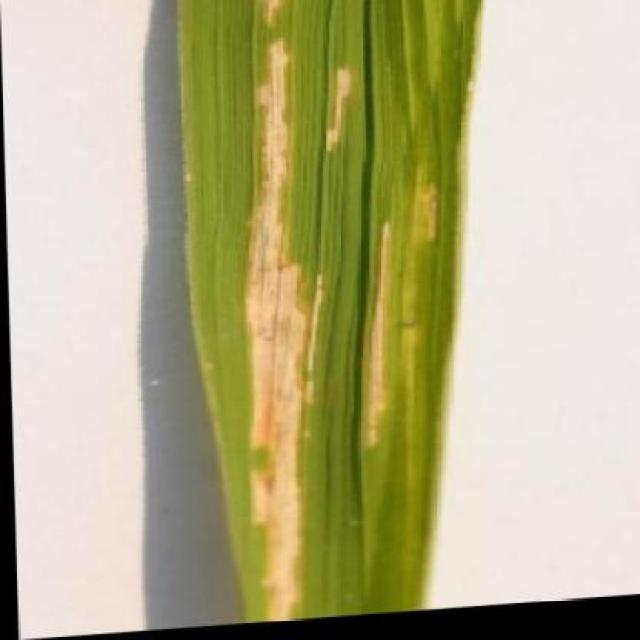Brown_Spot: (165, 0, 502, 631)
